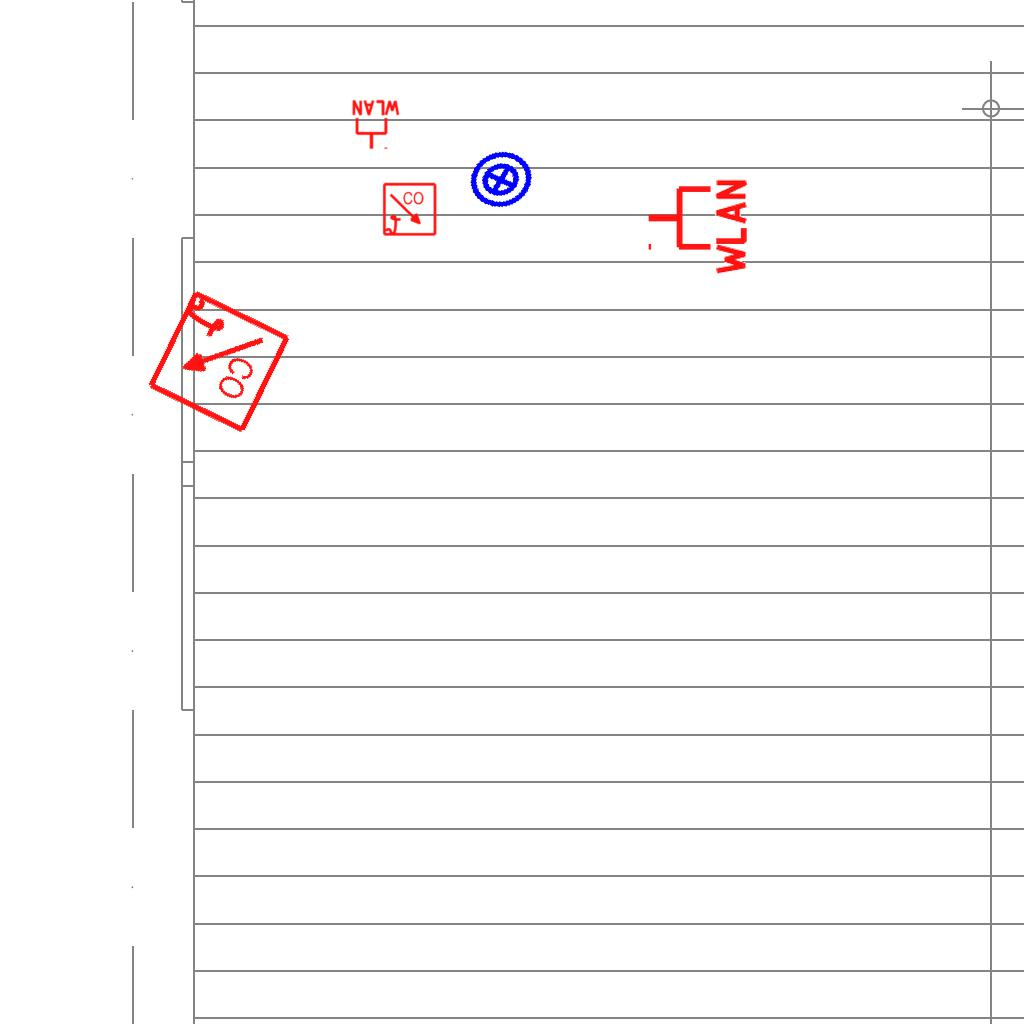ROA_Rauchmelder_optisch_mit_Signalgeber_(Sockelsirene): (141, 285, 294, 438), (382, 182, 438, 238)
Taster_beleuchtet: (459, 138, 543, 222)
WLAN: (644, 175, 749, 279), (350, 99, 402, 151)
